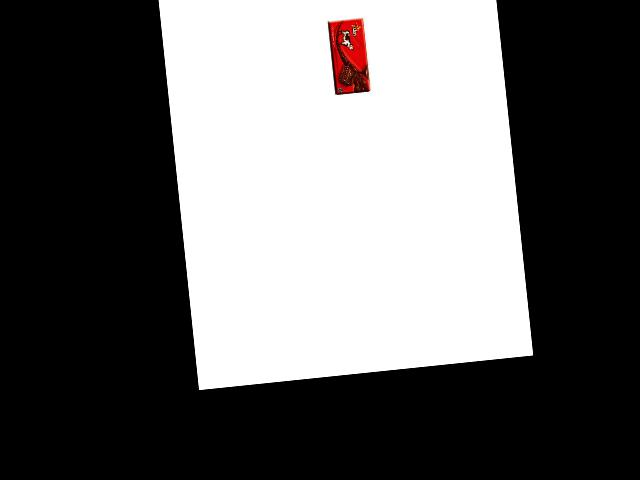chocolate: (323, 15, 372, 97)
